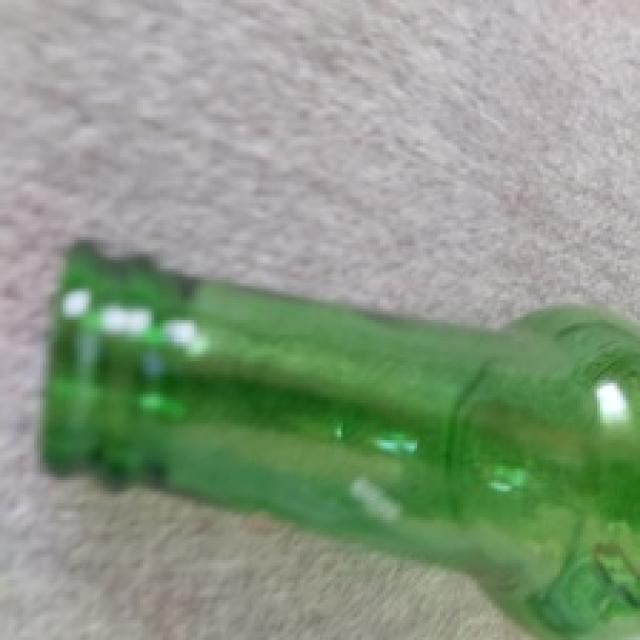Glass: (43, 233, 640, 640)
